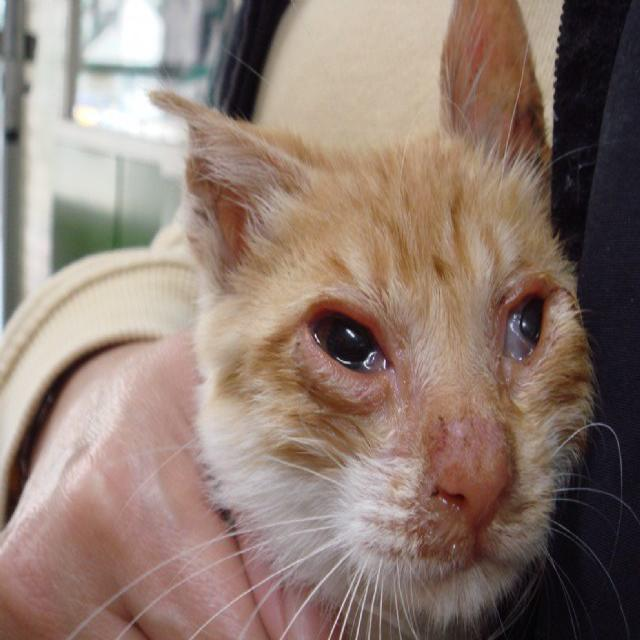eye_infection: (305, 303, 392, 389), (494, 285, 564, 370)
